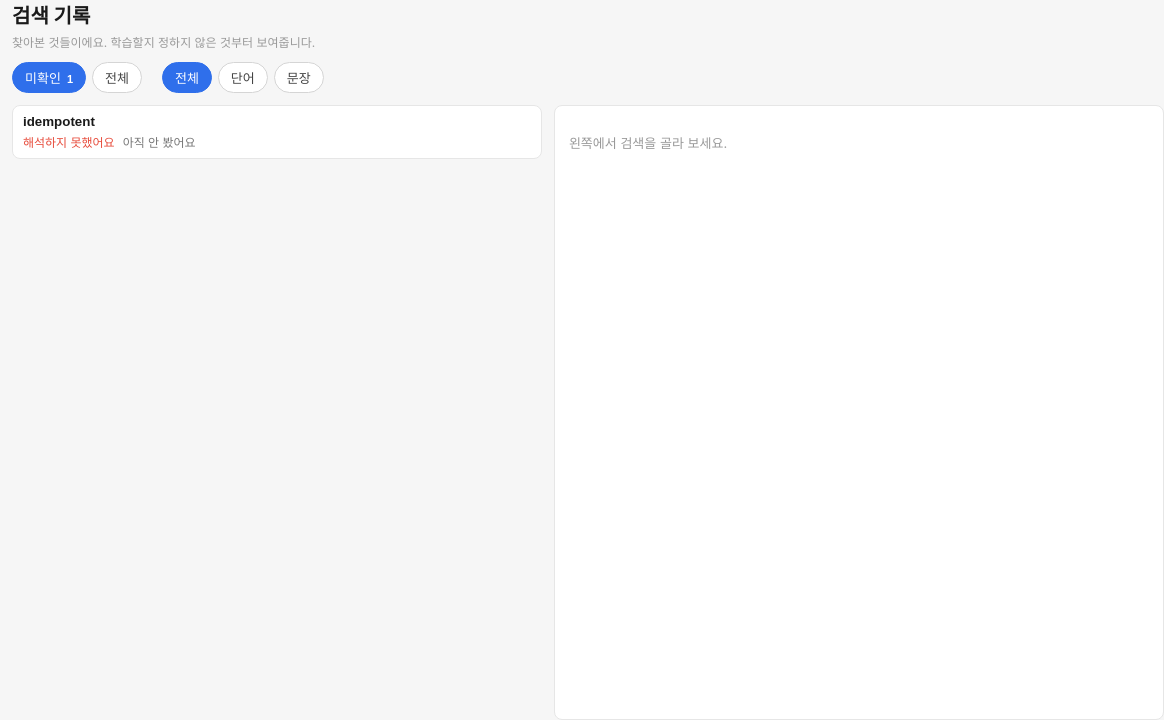
Test: 검색 기록 › 해석에 실패한 검색은 다시 해석하거나 지울 수 있다
Click the text "idempotent" at (59, 122), box [23,114,95,129]
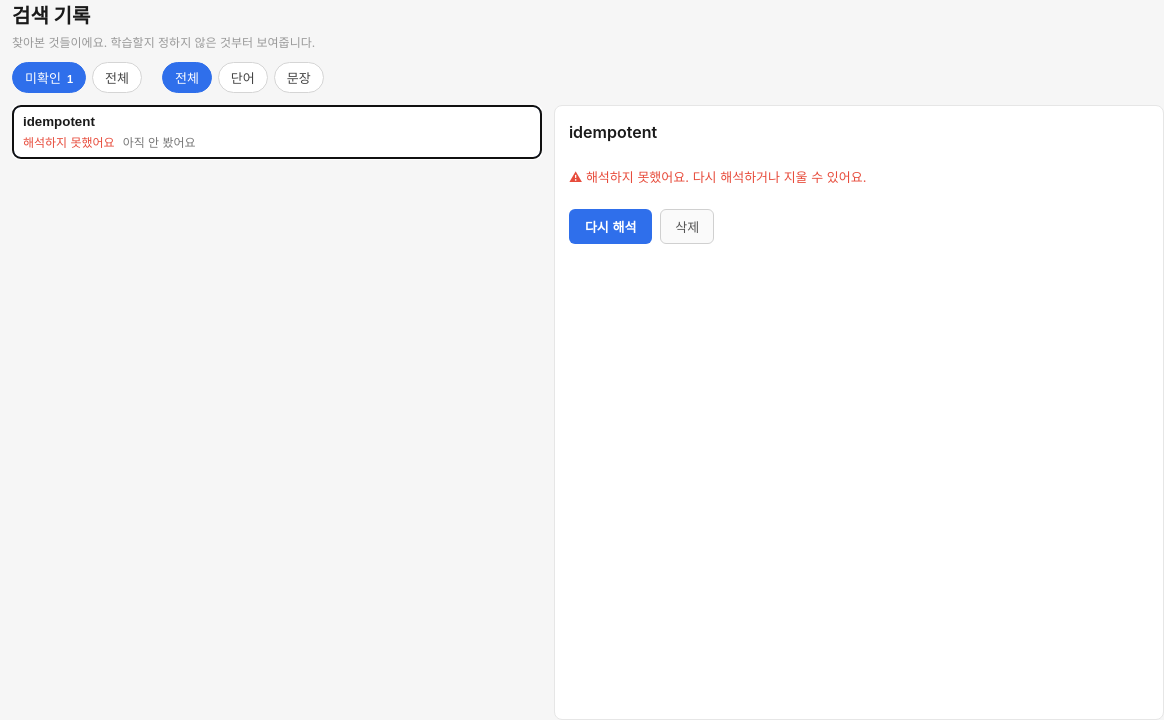
expect the button "삭제" is shown: met, box [660,209,714,244]
Click the button "다시 해석" at (611, 226), box [569,209,652,244]
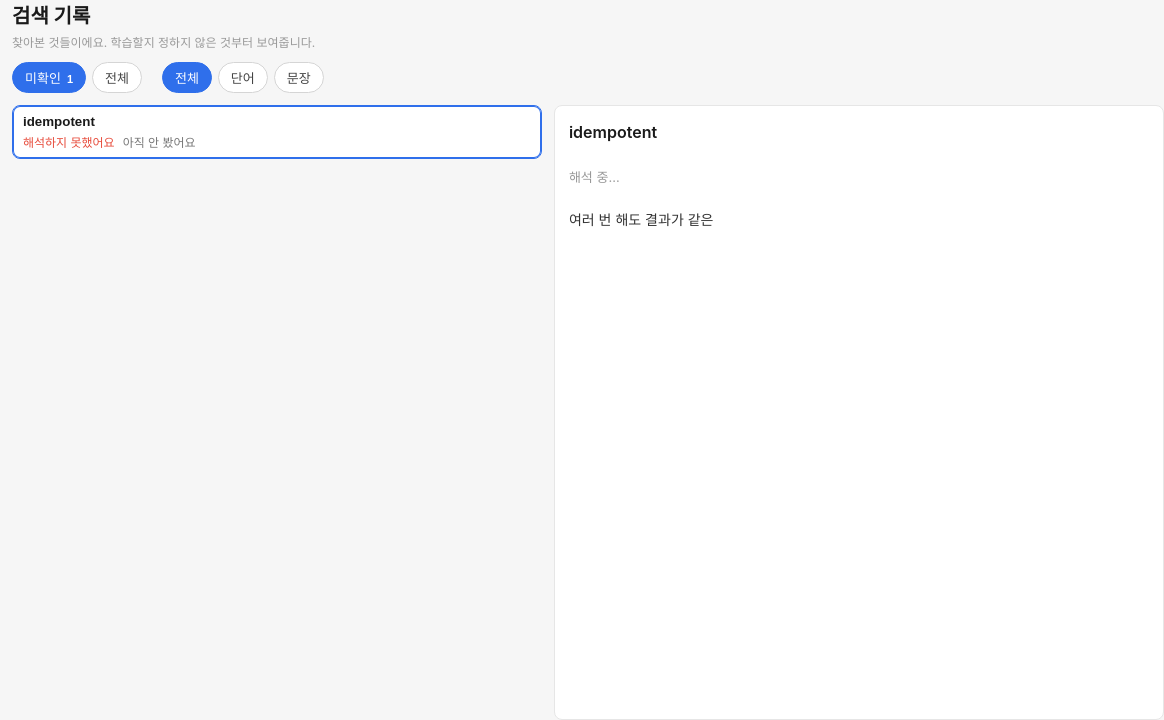
expect the text "해석 중…" is shown: met, box [569,169,620,185]
expect the text "다시 해석" is gone: met
